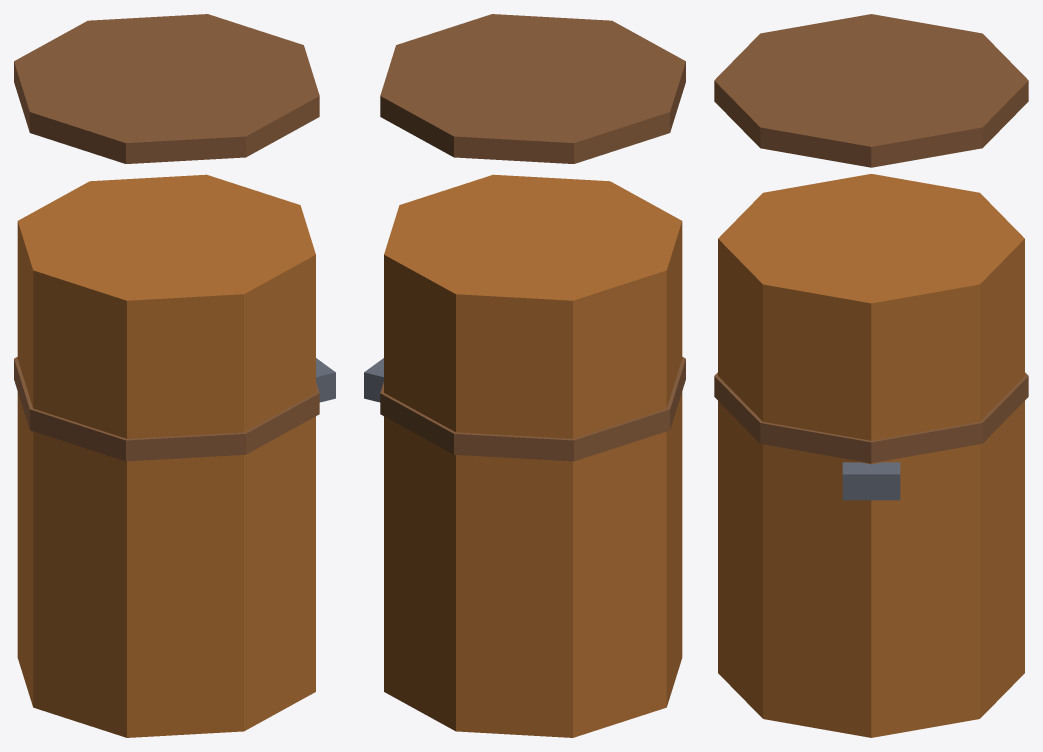
Rendered from rocket_module_fuel.glb.
The picture shows the model from 3 angles, left to right: view 1: azimuth 30°, elevation 25°; view 2: azimuth 150°, elevation 25°; view 3: azimuth 270°, elevation 25°; orthographic projection.
Parts seen in each view (by area): view 1: rocket_module_fuel, band_2.1, band_0.4; view 2: rocket_module_fuel, band_2.1, band_0.4; view 3: rocket_module_fuel, band_2.1, band_0.4.
Part boxes in pixels (x1=…): rocket_module_fuel: x1=17, y1=174, x2=335, y2=737; band_2.1: x1=14, y1=14, x2=319, y2=163; band_0.4: x1=14, y1=357, x2=319, y2=461; rocket_module_fuel: x1=364, y1=174, x2=682, y2=737; band_2.1: x1=380, y1=14, x2=685, y2=163; band_0.4: x1=380, y1=357, x2=685, y2=461; rocket_module_fuel: x1=718, y1=174, x2=1024, y2=737; band_2.1: x1=714, y1=14, x2=1028, y2=167; band_0.4: x1=714, y1=372, x2=1028, y2=463.
Bounding box in the file's own units: 1.75 × 3.41 × 1.64.
